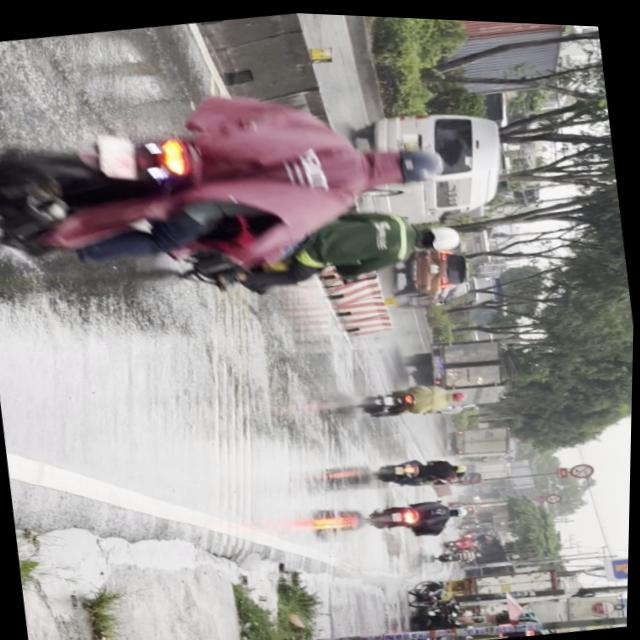helmet: (361, 134, 449, 190), (412, 215, 464, 251)
licenseplate: (0, 50, 468, 333), (137, 180, 471, 316)
nohelmet: (98, 131, 139, 181)
